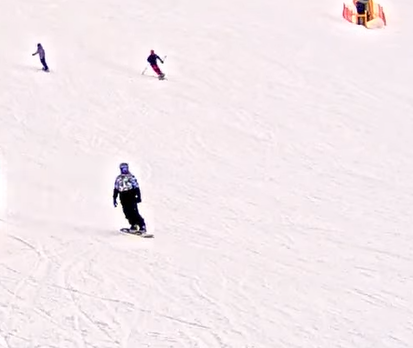skier: (140, 46, 171, 81)
snowboarder: (107, 158, 159, 240), (29, 38, 54, 74)
